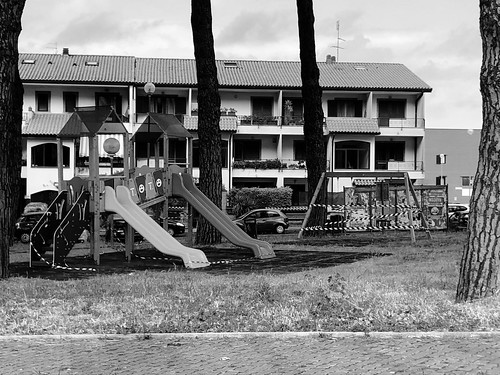building: (130, 62, 414, 227), (1, 48, 117, 217)
grass: (1, 238, 485, 339)
sky: (1, 1, 500, 102)
tree: (277, 1, 348, 230), (448, 1, 500, 302), (180, 1, 223, 251), (1, 1, 33, 260)
